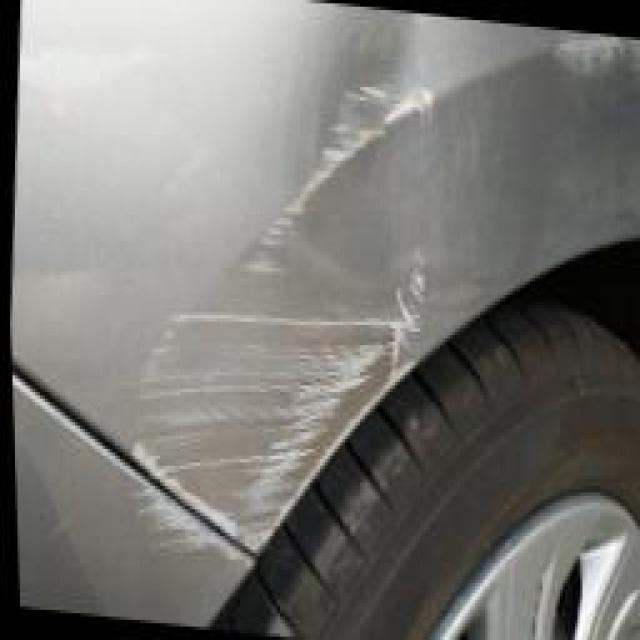Fender: (9, 42, 457, 554)
